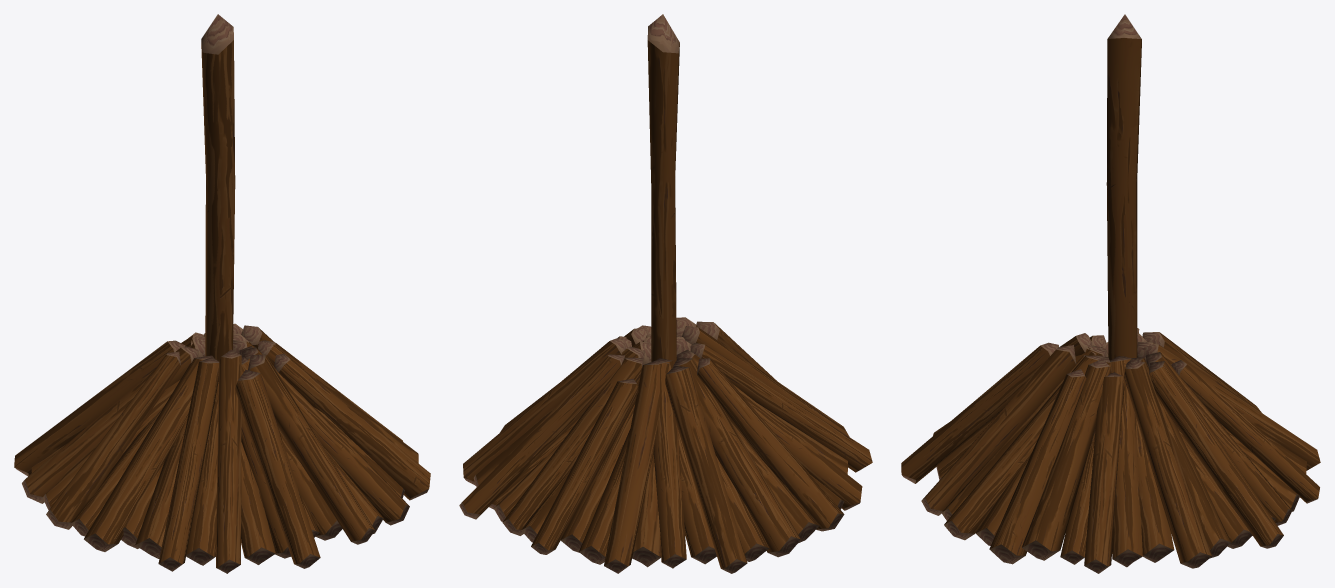
File: SM_PROP_pyre_battle.fbx
3 views of the same model, side by side, from view 1: azimuth 30°, elevation 25°; view 2: azimuth 150°, elevation 25°; view 3: azimuth 270°, elevation 25° (orthographic).
Parts seen in each view (by area): view 1: SM_PROP_pyre_battle; view 2: SM_PROP_pyre_battle; view 3: SM_PROP_pyre_battle.
Part boxes in pixels (x1,y1,x2,y2): SM_PROP_pyre_battle: [14, 14, 430, 573]; SM_PROP_pyre_battle: [459, 14, 872, 573]; SM_PROP_pyre_battle: [901, 14, 1320, 573].
Size of the model in its own units: 351 by 476 by 370.
